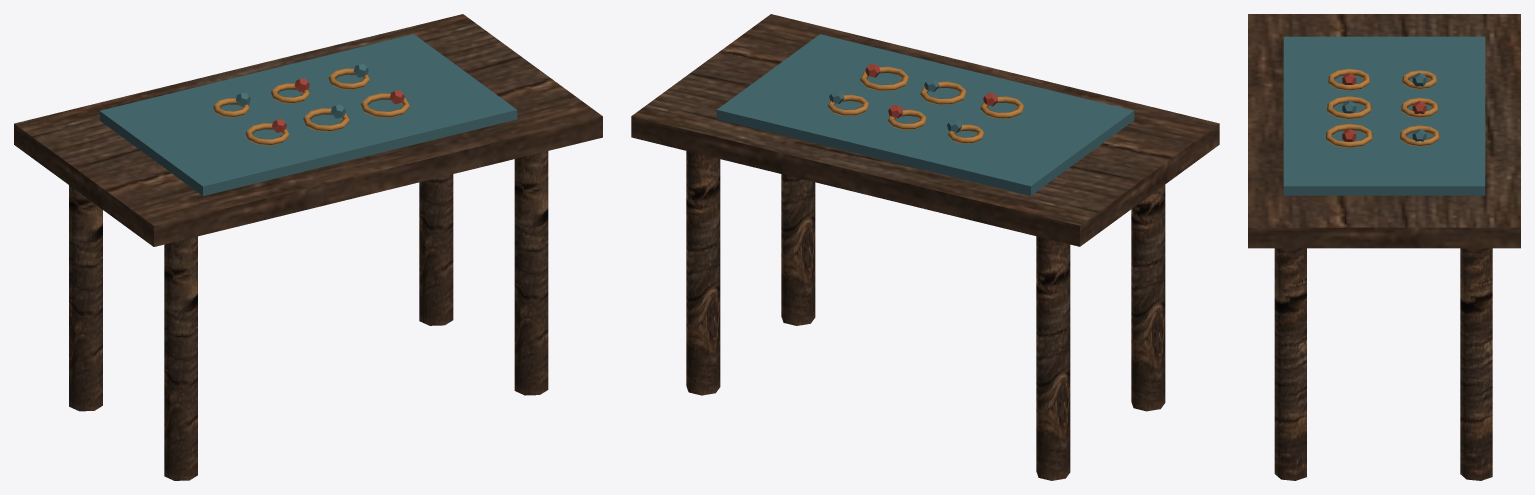
The model's file is jewelBench.glb.
3 views of the same model, side by side, from view 1: azimuth 30°, elevation 25°; view 2: azimuth 150°, elevation 25°; view 3: azimuth 270°, elevation 25° (orthographic). The views are drawn at different scales.
Visible parts, largest first — view 1: part_0, part_1, part_2; view 2: part_0, part_1, part_2; view 3: part_0, part_1, part_2, part_3.
Boxes of the visible parts, bbox=[...] form: part_0: bbox=[14, 14, 602, 480]; part_1: bbox=[99, 34, 517, 195]; part_2: bbox=[213, 68, 410, 145]; part_0: bbox=[631, 14, 1219, 480]; part_1: bbox=[716, 34, 1134, 195]; part_2: bbox=[827, 66, 1024, 143]; part_0: bbox=[1248, 14, 1520, 480]; part_1: bbox=[1283, 36, 1485, 195]; part_2: bbox=[1326, 68, 1439, 147]; part_3: bbox=[1342, 73, 1426, 141].
Bounding box in the file's own units: 1.22 × 0.7828 × 0.6575.
4 materials, 1 textured.
